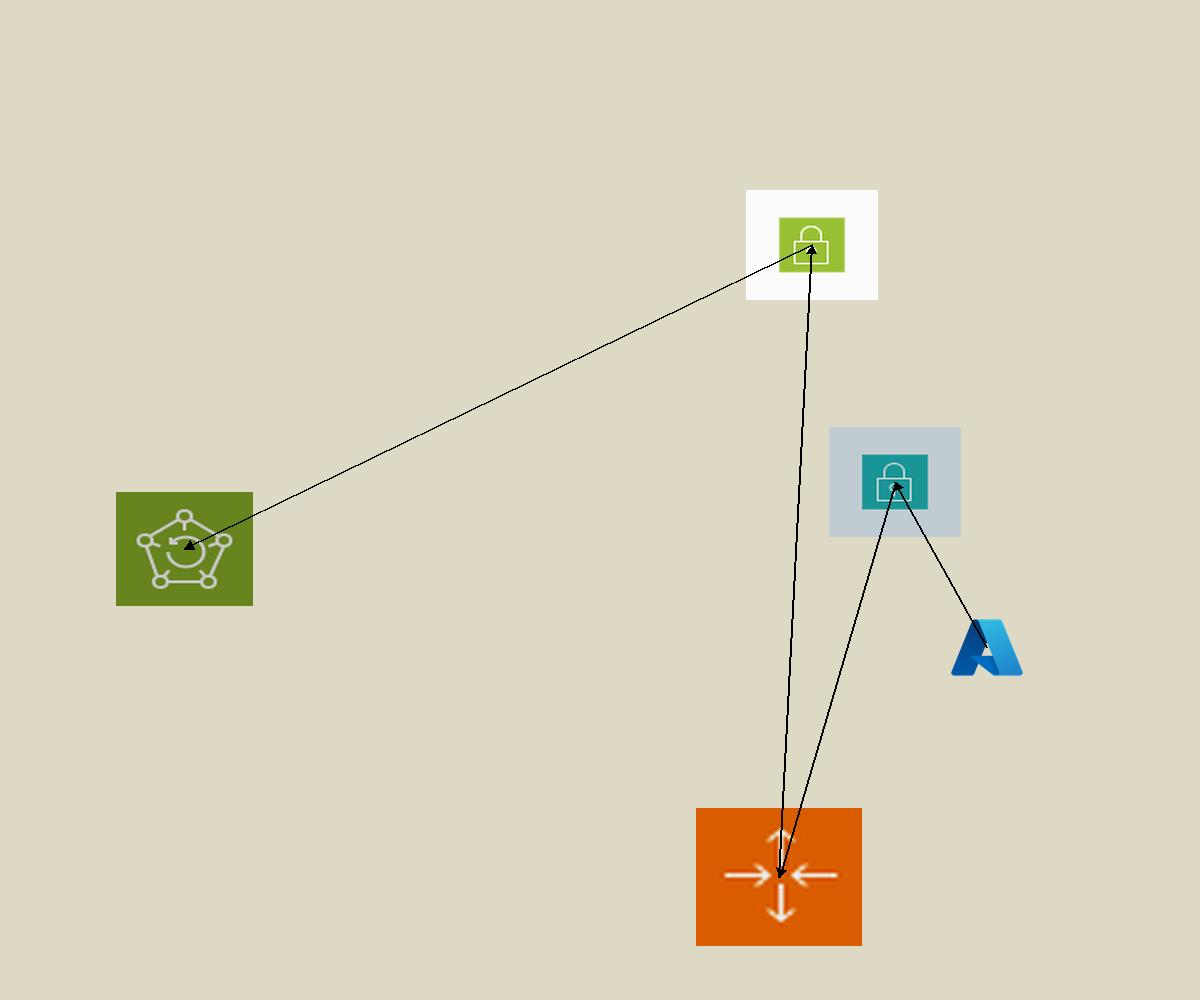AWS-Backup: (116, 492, 253, 606)
AWS-Private-subnet: (829, 427, 961, 537)
AWS-Public-subnet: (746, 190, 878, 300)
AWS-Scaling-group: (696, 808, 862, 946)
Azure_services: (948, 615, 1026, 680)
